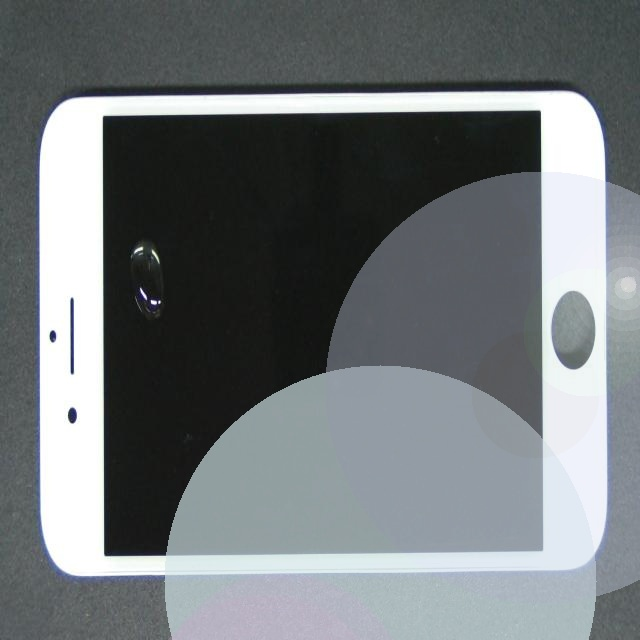oil: (63, 95, 199, 403)
